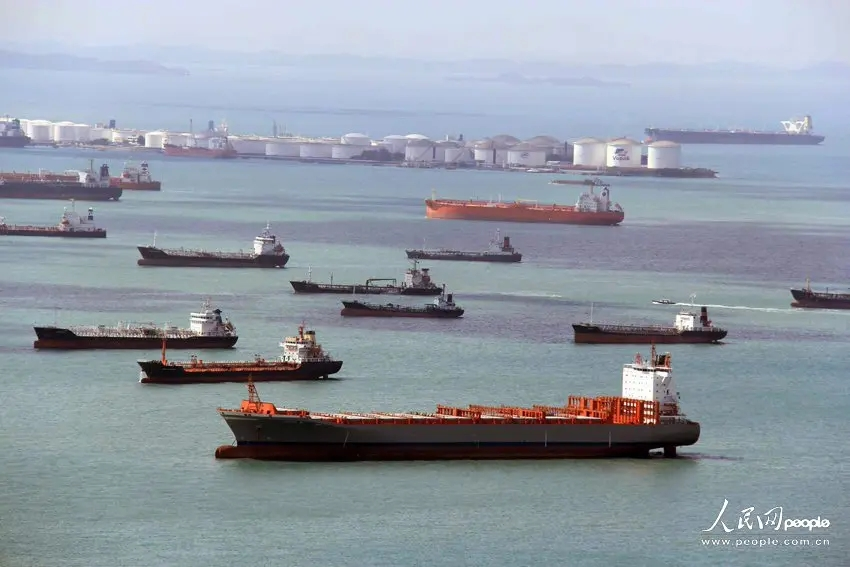Cargoship: (203, 348, 713, 462), (125, 320, 346, 386), (29, 294, 237, 352), (424, 177, 628, 225), (567, 300, 728, 345), (136, 225, 291, 268), (285, 259, 442, 297), (337, 282, 462, 321), (1, 163, 123, 201), (1, 201, 108, 239), (404, 236, 528, 262)
